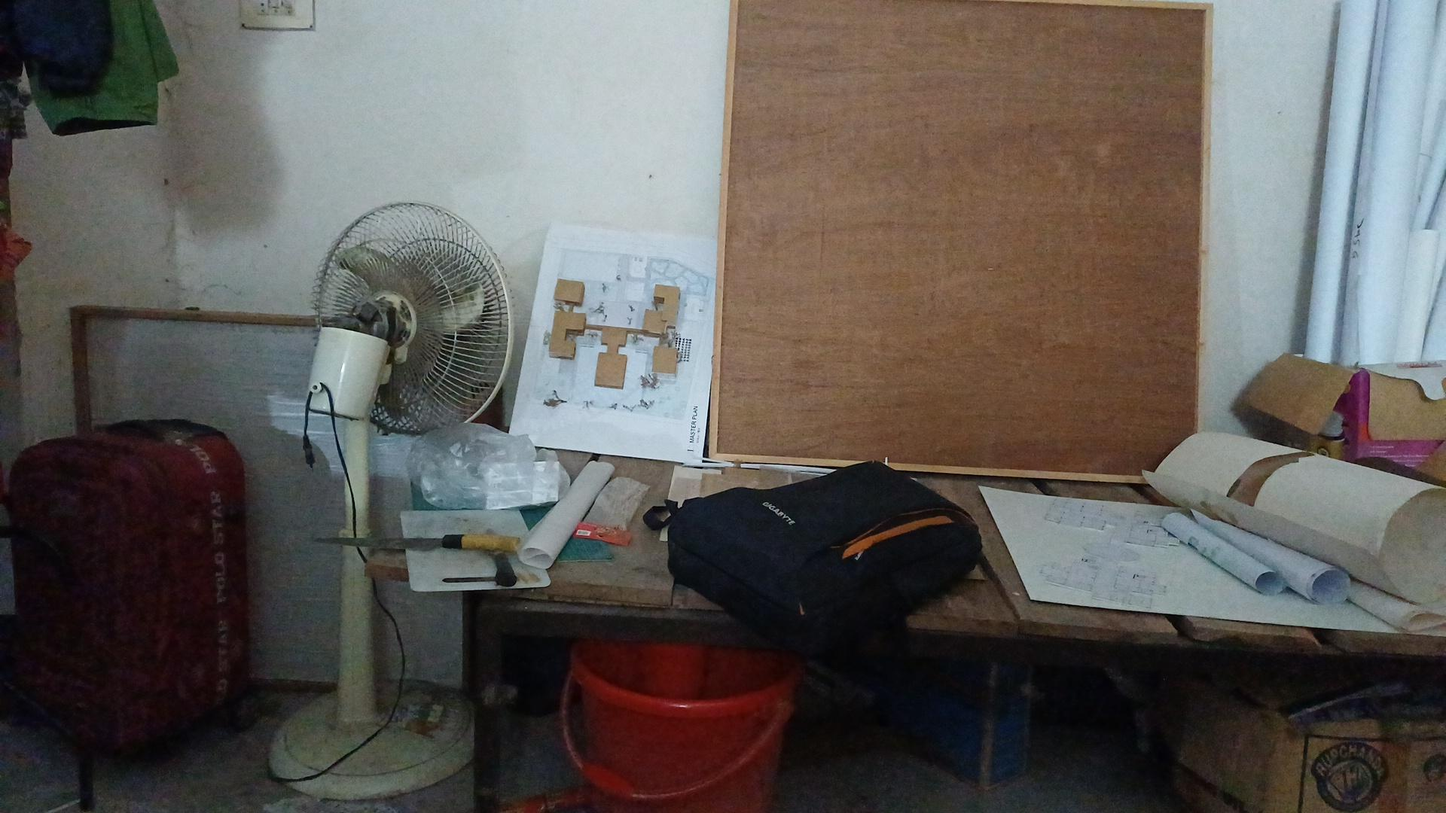Bucket: (530, 627, 796, 795)
Fan: (257, 179, 509, 441)
Knife: (660, 453, 985, 619), (302, 519, 543, 603)
Photo: (532, 220, 710, 433)
